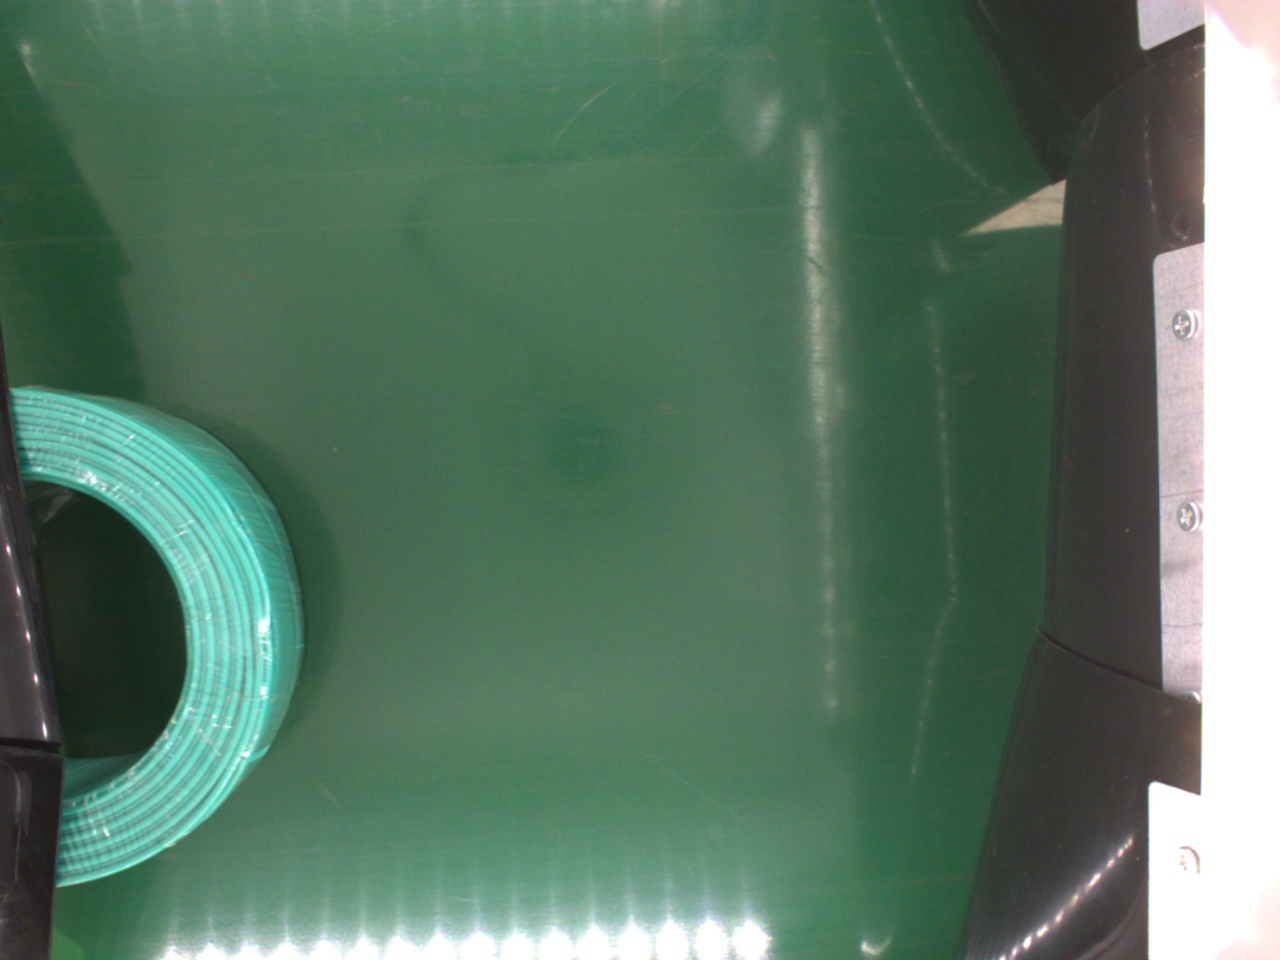green: (18, 385, 306, 899)
